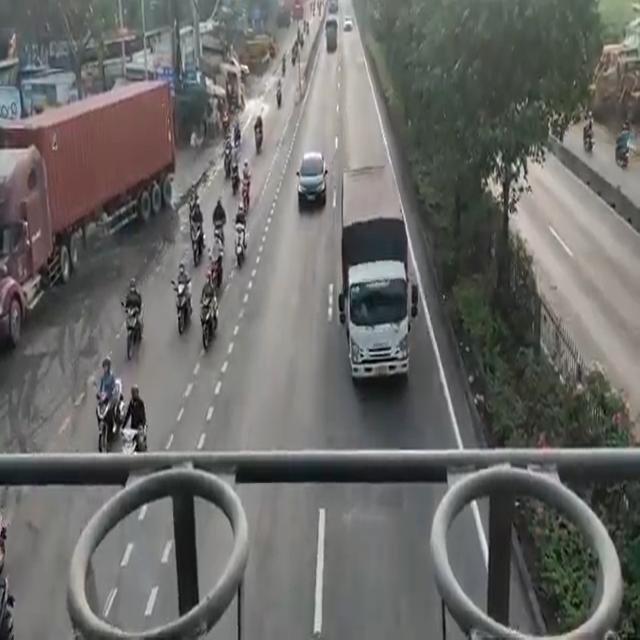car: (296, 147, 326, 206)
motor: (92, 368, 114, 453), (196, 291, 223, 356), (187, 198, 205, 272), (228, 220, 252, 273), (174, 271, 193, 336), (122, 295, 142, 356), (116, 414, 146, 454), (239, 170, 255, 215), (214, 204, 229, 248), (208, 256, 223, 284)
truck: (0, 76, 183, 269), (339, 166, 414, 384)
